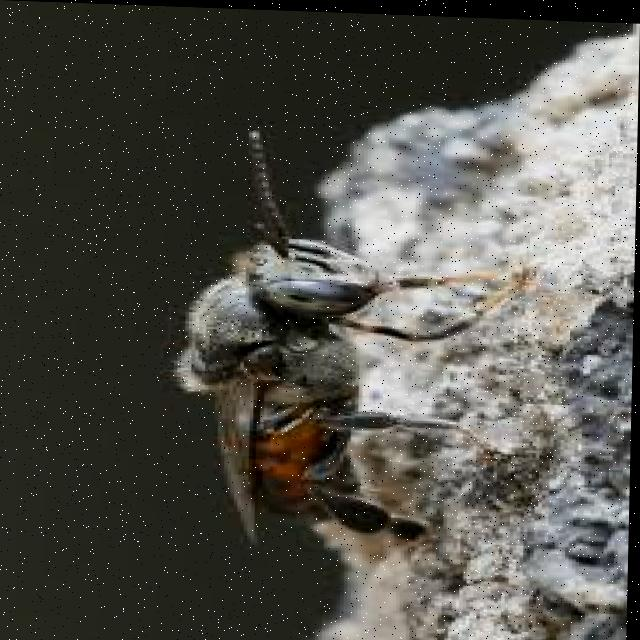Meliponula: (139, 109, 519, 551)
